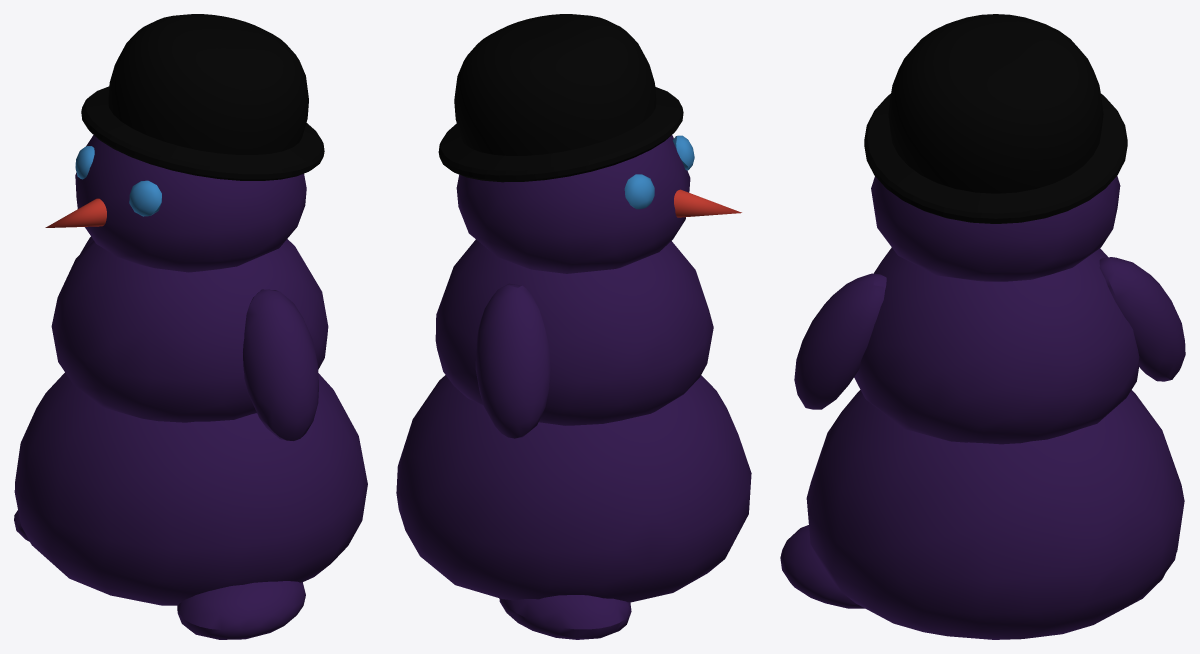
Rendered from Snowman3.fbx.
3 views of the same model, side by side, from view 1: azimuth 30°, elevation 25°; view 2: azimuth 150°, elevation 25°; view 3: azimuth 270°, elevation 25° (orthographic). The views are drawn at different scales.
Parts seen in each view (by area): view 1: Sphere; view 2: Sphere; view 3: Sphere.
Boxes of the visible parts, x1,y1,x2,y2 form: Sphere: (14,14,367,639); Sphere: (396,14,751,639); Sphere: (780,14,1185,639).
Bounding box in the file's own units: 78.6 × 129 × 83.23.
